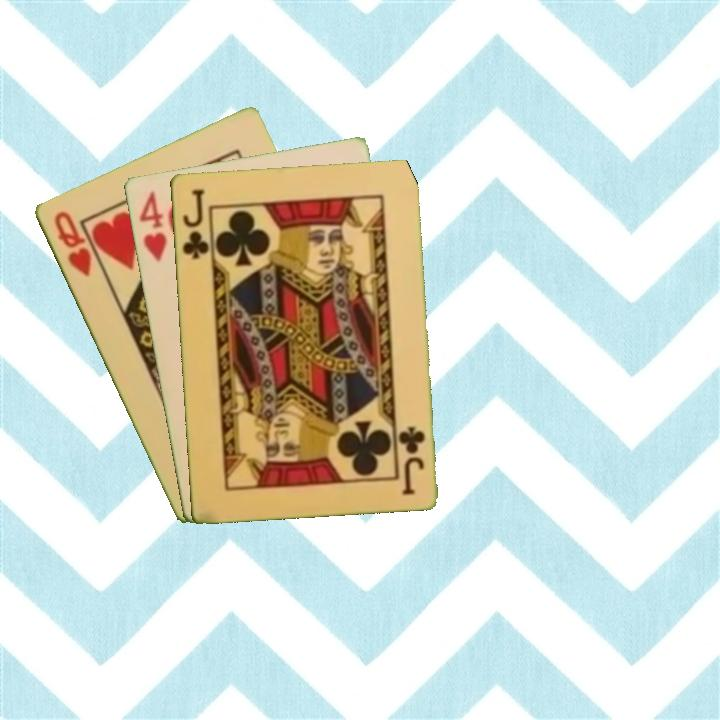4h: (135, 187, 170, 264)
Jc: (178, 185, 211, 262), (395, 423, 428, 498)
Qh: (50, 207, 94, 279)
